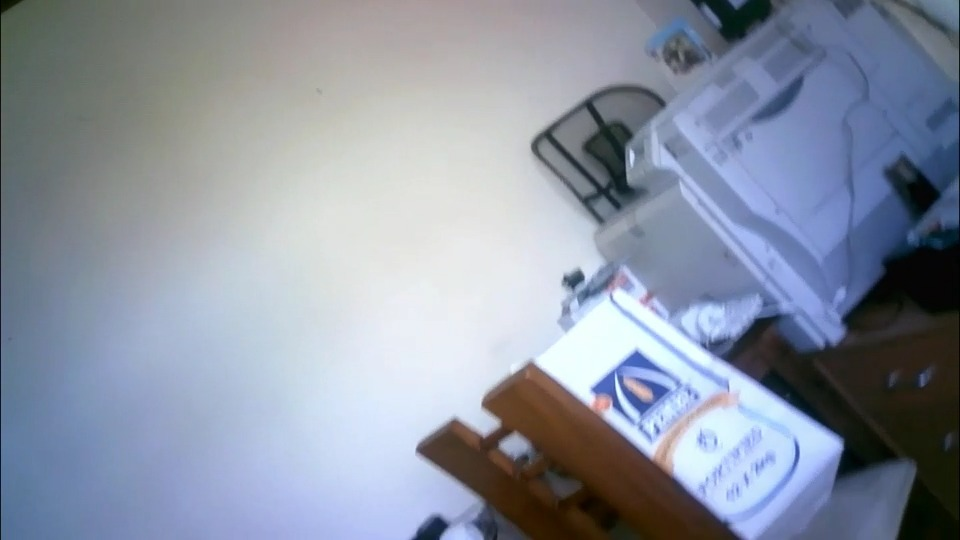wheat_flour_blue_label: (535, 285, 859, 535)
